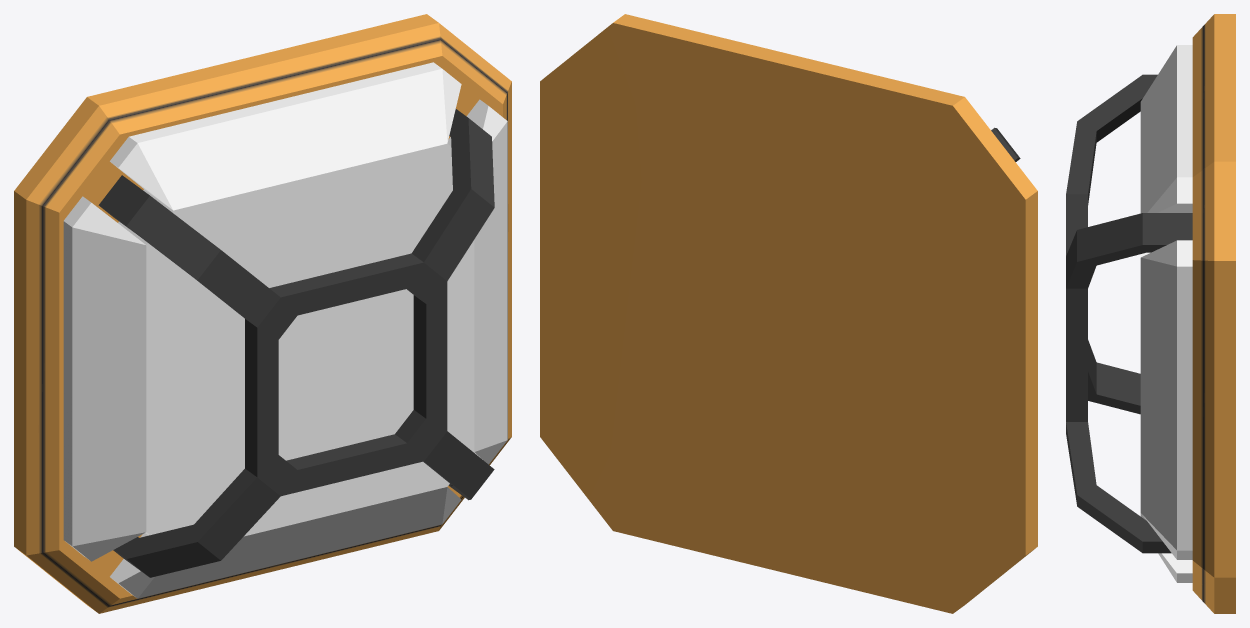
File: worlds_SM_Bld_Light_03.gltf
3 renders of one model, left to right at view 1: azimuth 30°, elevation 25°; view 2: azimuth 150°, elevation 25°; view 3: azimuth 270°, elevation 25°, orthographic. The views are drawn at different scales.
Visible parts, largest first — view 1: SM_Bld_Light_03; view 2: SM_Bld_Light_03; view 3: SM_Bld_Light_03.
Boxes of the visible parts, box(x1,y1,x2,y2) form: SM_Bld_Light_03: box(14, 14, 511, 613); SM_Bld_Light_03: box(540, 14, 1037, 613); SM_Bld_Light_03: box(1066, 14, 1235, 613).
Size of the model in its own units: 0.6853 by 0.6853 by 0.2334.
1 material, 1 textured.
